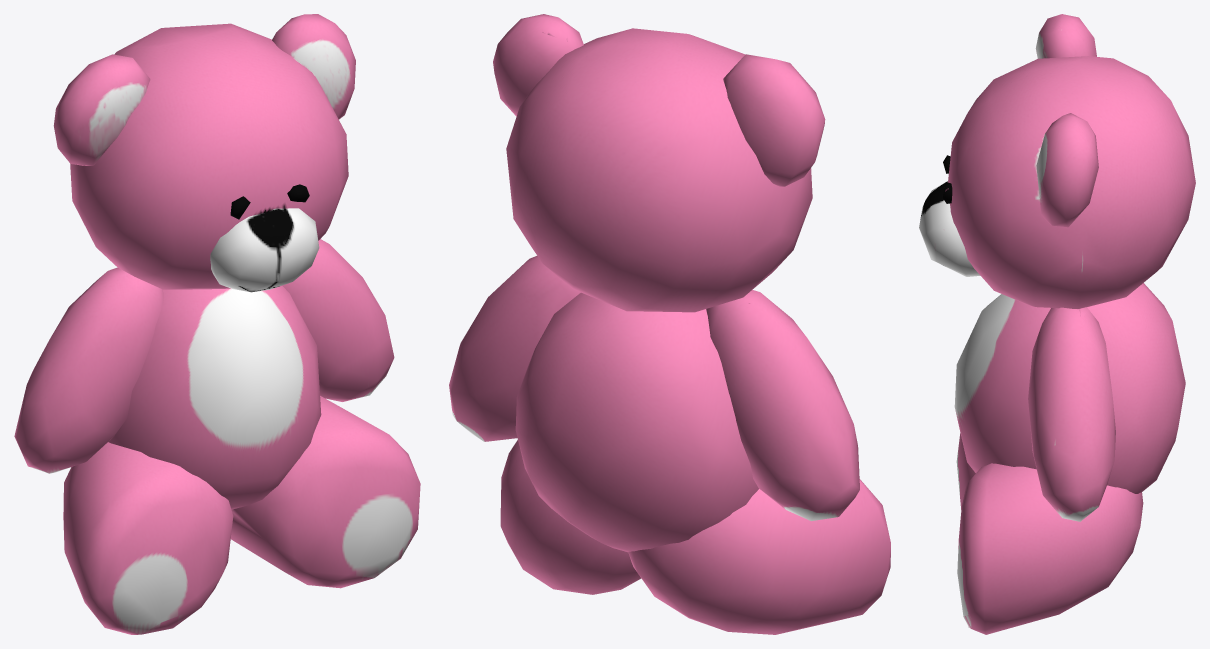
Rendered from teddy bear2.fbx.
3 renders of one model, left to right at view 1: azimuth 30°, elevation 25°; view 2: azimuth 150°, elevation 25°; view 3: azimuth 270°, elevation 25°, orthographic. The views are drawn at different scales.
Visible parts, largest first — view 1: Teddy_Bear_2_Lowpoly; view 2: Teddy_Bear_2_Lowpoly; view 3: Teddy_Bear_2_Lowpoly.
Part boxes in pixels (x1,y1,x2,y2): Teddy_Bear_2_Lowpoly: (14, 14, 420, 634); Teddy_Bear_2_Lowpoly: (449, 14, 890, 634); Teddy_Bear_2_Lowpoly: (919, 14, 1195, 634).
Bounding box in the file's own units: 167 × 235 × 114.
1 material, 1 textured.
